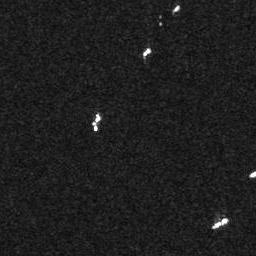ship: (210, 217, 229, 229), (92, 113, 100, 132), (142, 47, 153, 57), (173, 5, 180, 14)
